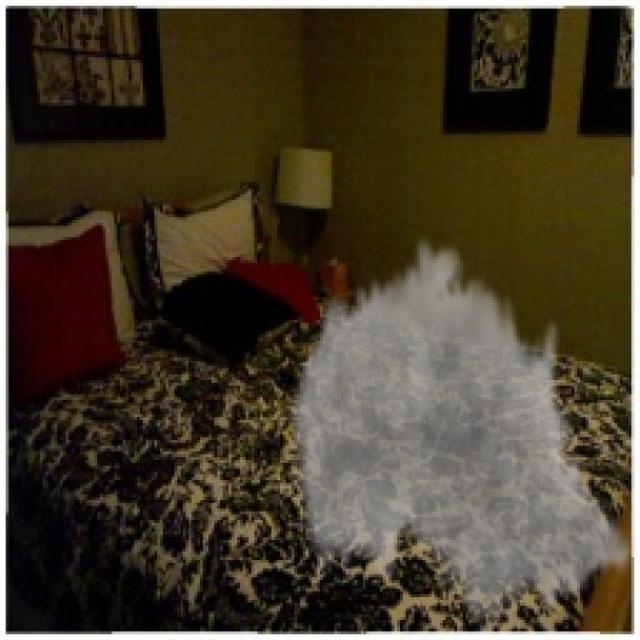smoke: (286, 229, 637, 637)
